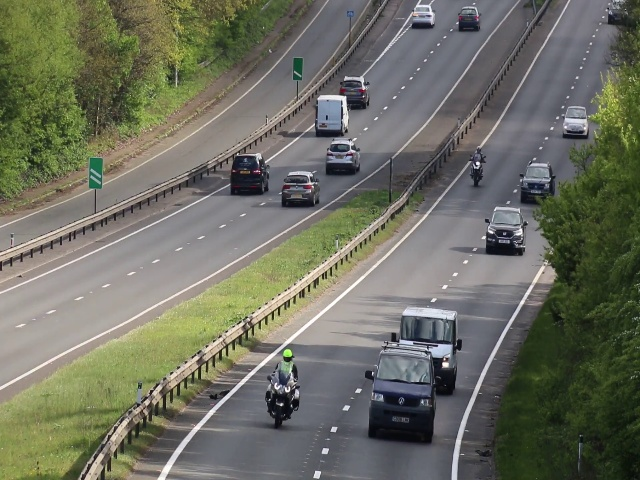car: (364, 347, 438, 444), (403, 304, 455, 376), (487, 202, 525, 256), (228, 153, 270, 191), (277, 171, 321, 207), (314, 94, 352, 135), (520, 161, 552, 202), (325, 139, 362, 172), (559, 103, 590, 138), (340, 74, 370, 108), (457, 6, 480, 31), (411, 4, 435, 27)
